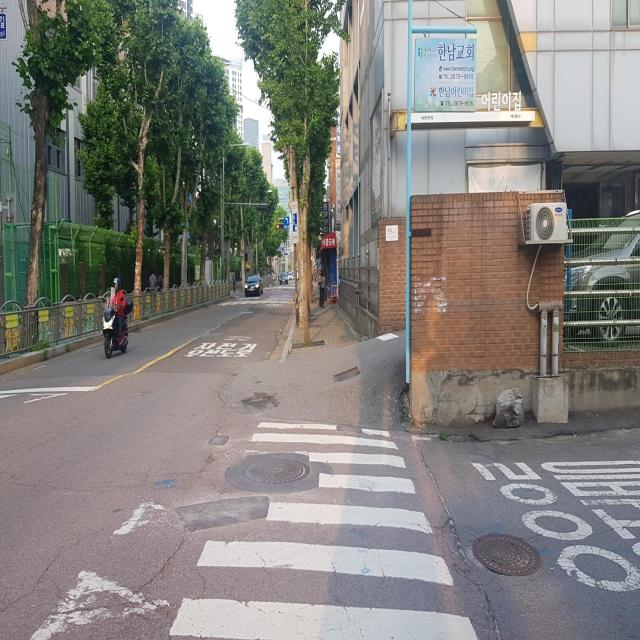횡단보도: (167, 419, 478, 640)
